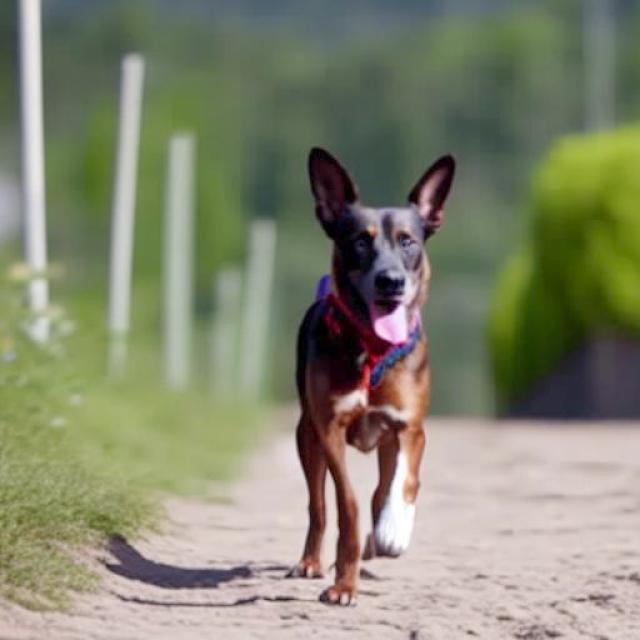Dog: (286, 145, 458, 608)
